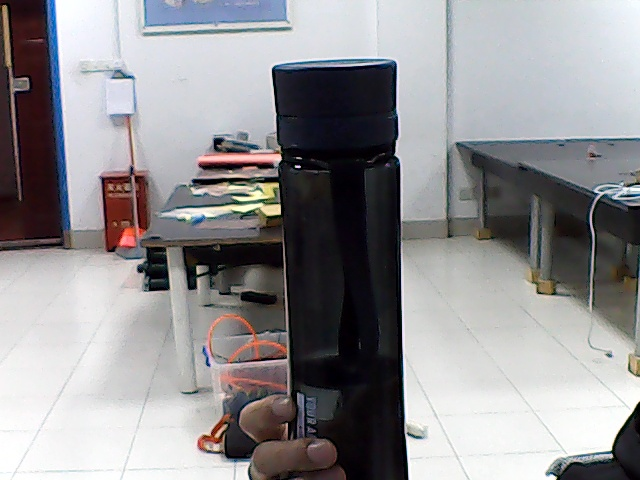cup: (288, 73, 393, 428)
